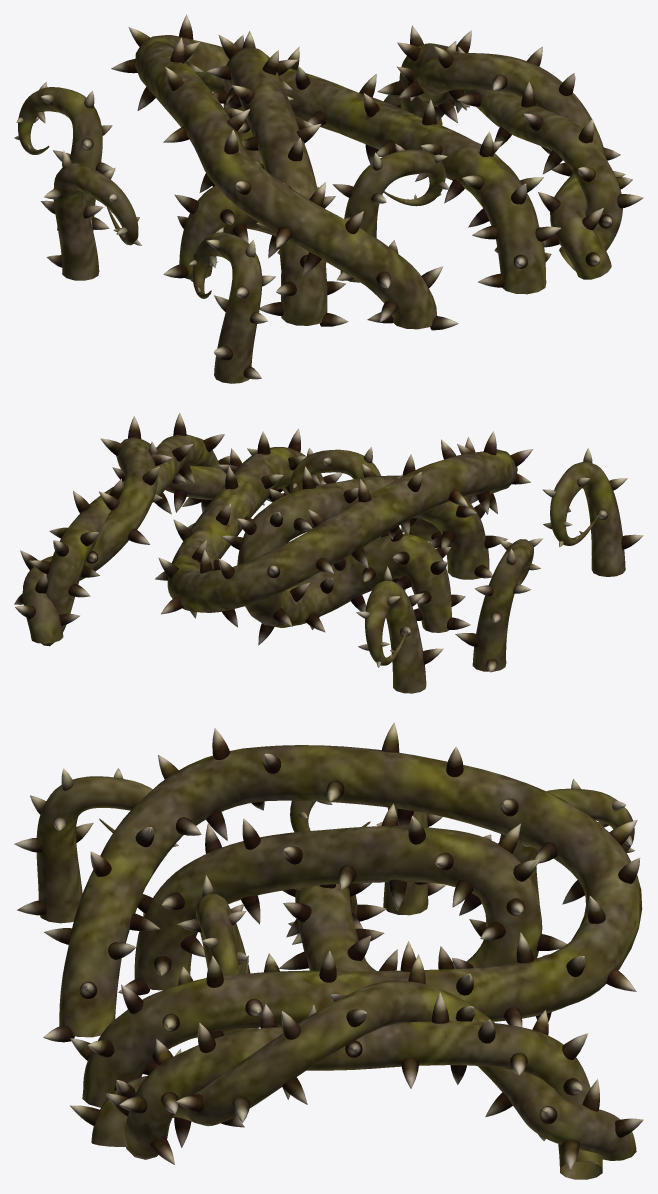
The model's file is modular_vines.glb.
The picture shows the model from 3 angles, top to bottom: view 1: azimuth 30°, elevation 25°; view 2: azimuth 150°, elevation 25°; view 3: azimuth 270°, elevation 25°; orthographic projection. The views are drawn at different scales.
Parts seen in each view (by area): view 1: Bramble1_DefaultMaterial_0; view 2: Bramble1_DefaultMaterial_0; view 3: Bramble1_DefaultMaterial_0.
Part boxes in pixels (x1,y1,x2,y2): Bramble1_DefaultMaterial_0: (14,14,643,383); Bramble1_DefaultMaterial_0: (14,412,643,693); Bramble1_DefaultMaterial_0: (14,722,643,1179).
Size of the model in its own units: 13.16 by 5.28 by 11.49.
Materials: 1 (1 with a texture image).
